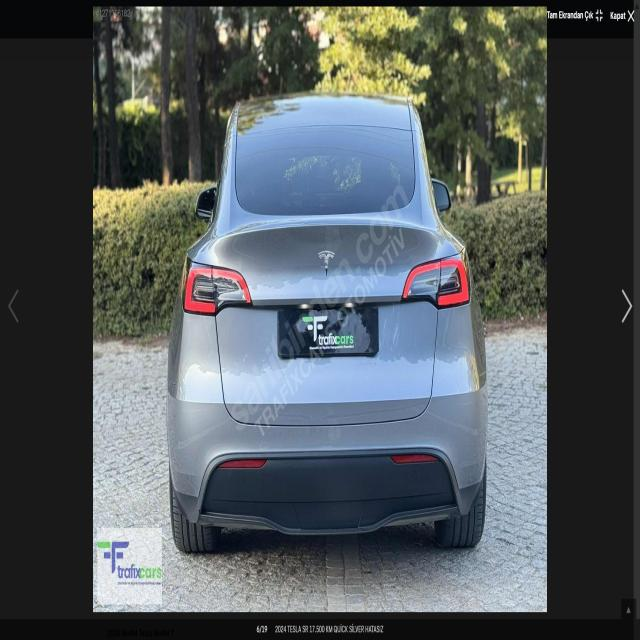tesla: (313, 240, 343, 286)
